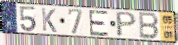5: (20, 6, 38, 33)
7: (67, 7, 84, 35)
B: (139, 11, 160, 41)
E: (88, 10, 110, 38)
K: (40, 7, 58, 34)
P: (115, 11, 138, 38)
